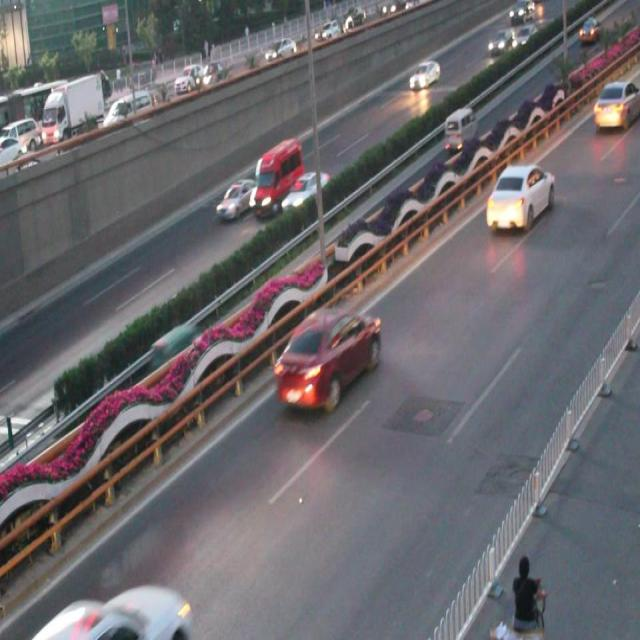car: (274, 304, 381, 413), (36, 580, 190, 640), (483, 160, 554, 230), (136, 331, 192, 394), (280, 170, 329, 212), (215, 179, 257, 217), (406, 59, 441, 92)
truck: (252, 140, 303, 210), (441, 107, 478, 153)
